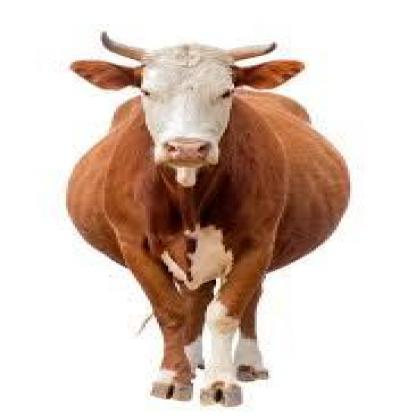cow: (72, 45, 349, 407)
